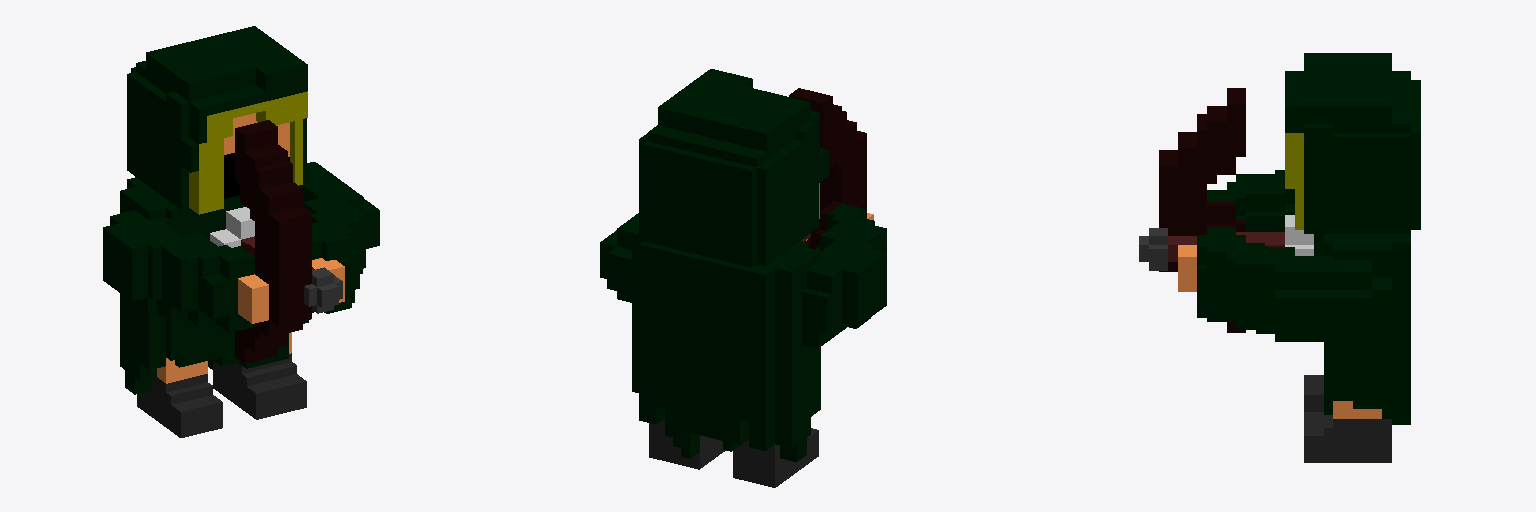
The model's file is Archer.obj.
3 renders of one model, left to right at view 1: azimuth 30°, elevation 25°; view 2: azimuth 150°, elevation 25°; view 3: azimuth 270°, elevation 25°, orthographic.
Parts seen in each view (by area): view 1: Cube.1885_Cube.1887; view 2: Cube.1885_Cube.1887; view 3: Cube.1885_Cube.1887.
Part boxes in pixels (left/top/right/bottom): Cube.1885_Cube.1887: left=103, top=26, right=379, bottom=437; Cube.1885_Cube.1887: left=600, top=69, right=886, bottom=487; Cube.1885_Cube.1887: left=1139, top=53, right=1420, bottom=462.
Bounding box in the file's own units: 29 × 40 × 29.